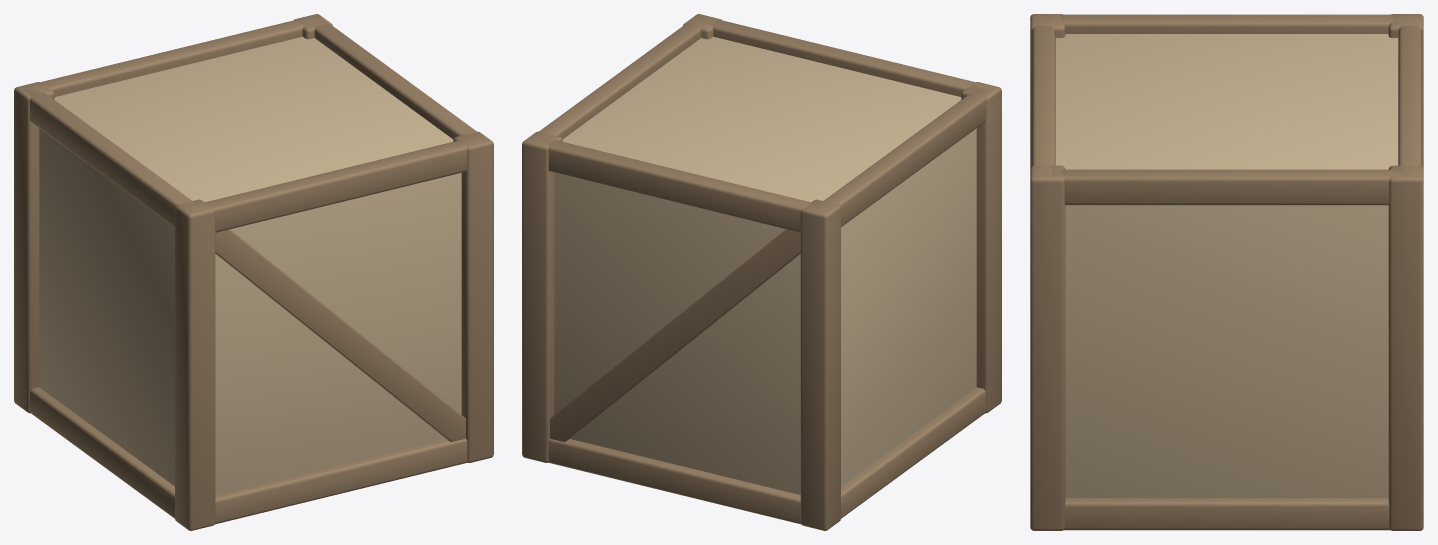
The model's file is Caixa.fbx.
The picture shows the model from 3 angles, left to right: view 1: azimuth 30°, elevation 25°; view 2: azimuth 150°, elevation 25°; view 3: azimuth 270°, elevation 25°; orthographic projection. The views are drawn at different scales.
Parts seen in each view (by area): view 1: Caixa; view 2: Caixa; view 3: Caixa.
Boxes of the visible parts, left/top/right/bottom form: Caixa: left=14, top=14, right=493, bottom=530; Caixa: left=522, top=14, right=1001, bottom=530; Caixa: left=1030, top=14, right=1423, bottom=530.
Bounding box in the file's own units: 1.01 × 1 × 1.01.
